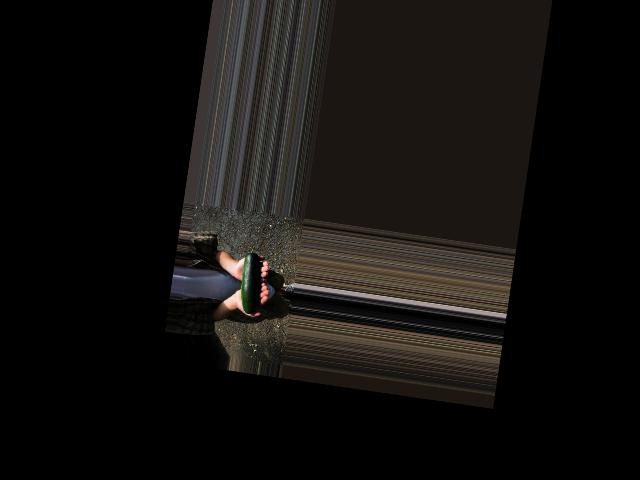cucumber: (237, 244, 266, 314)
